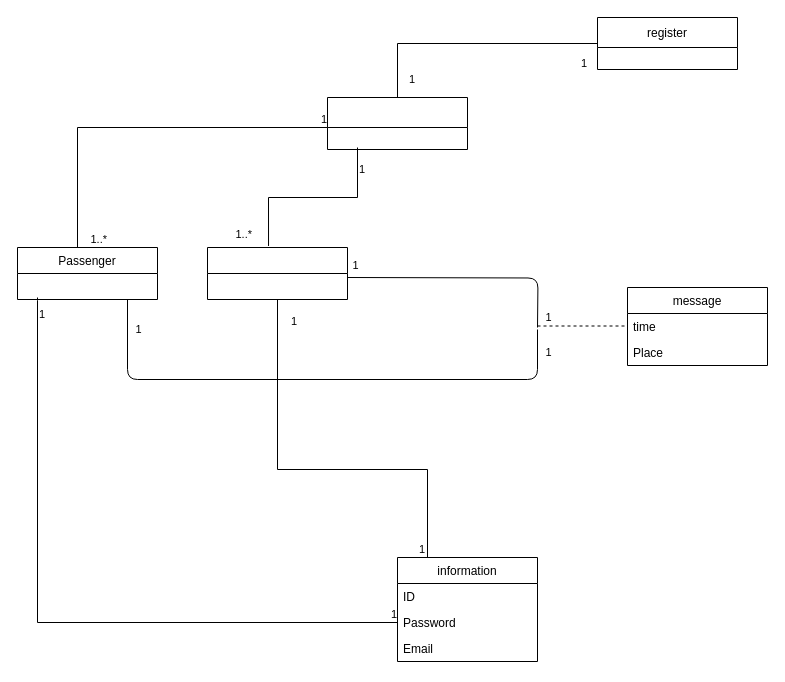
Some shapes in this 785 by 682 pixel diagram are drawn without their labels. The shapes that lost their labels are listed below. From the top down, each one's centre as x and y in pixels, then its label:
At point 397,123: "Sign In".
At point 277,273: "Drive".
